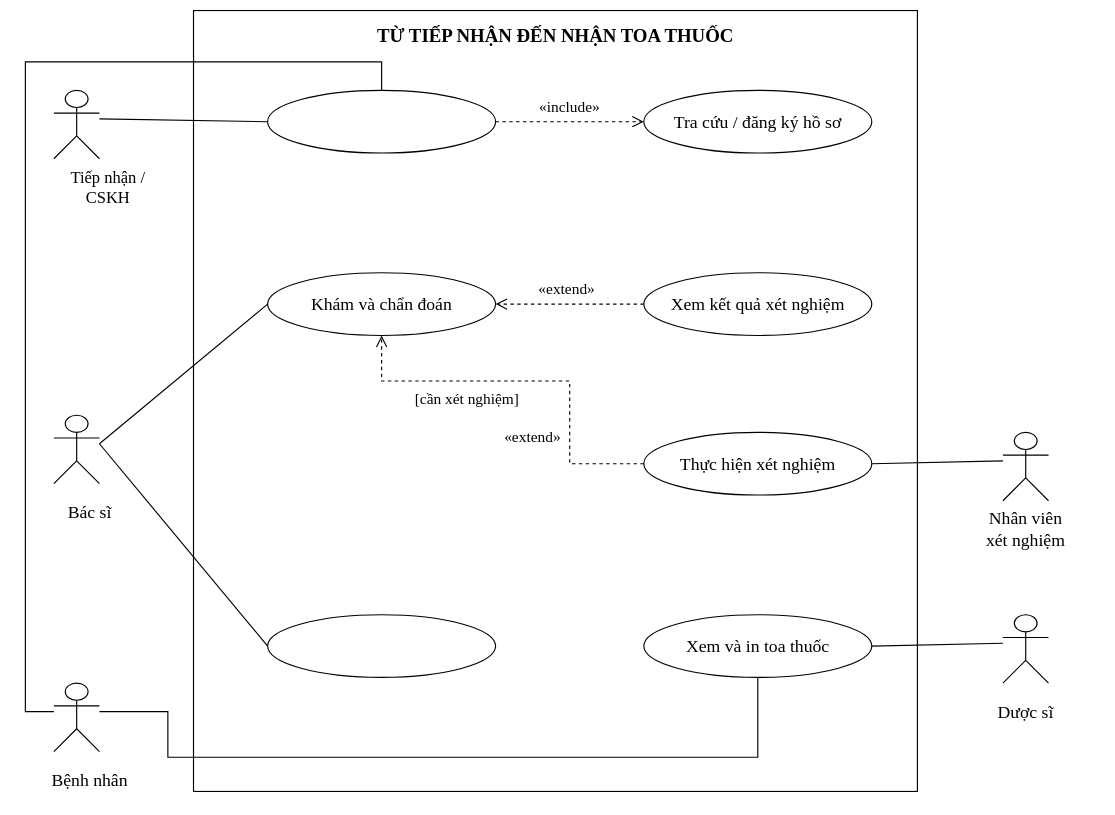
Some shapes in this 1115 by 815 pixel diagram are drawn without their labels. The centre of each missing label's shape, as x and y in pixels:
Lập toa thuốc: point (381, 646)
Tiếp nhận khám bệnh: point (381, 121)
